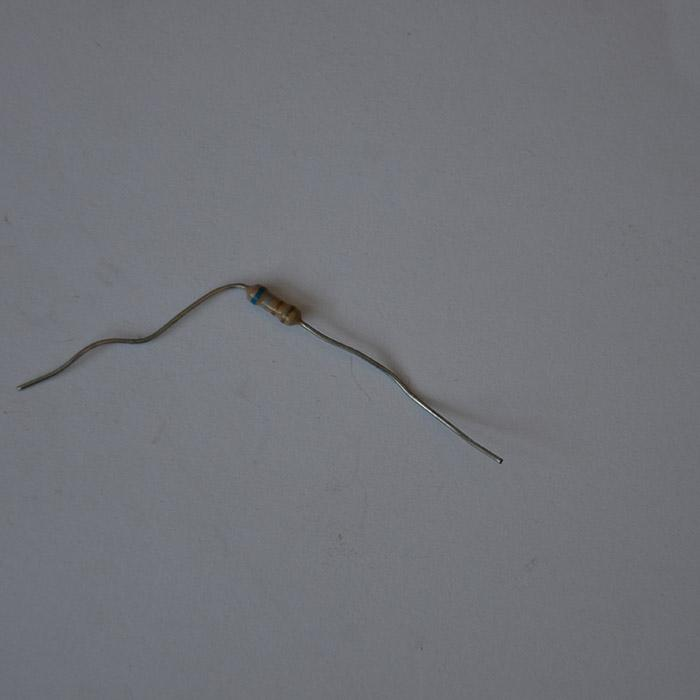resistor: (245, 283, 300, 325)
